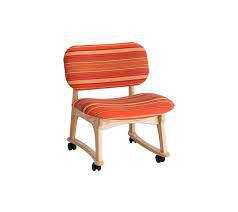chair: (57, 40, 178, 177)
